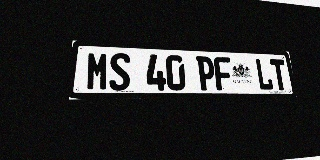0: (165, 55, 186, 90)
4: (146, 54, 166, 91)
F: (213, 57, 233, 90)
L: (255, 58, 274, 90)
M: (86, 52, 109, 91)
P: (196, 56, 216, 90)
S: (109, 53, 130, 91)
T: (270, 59, 289, 90)
